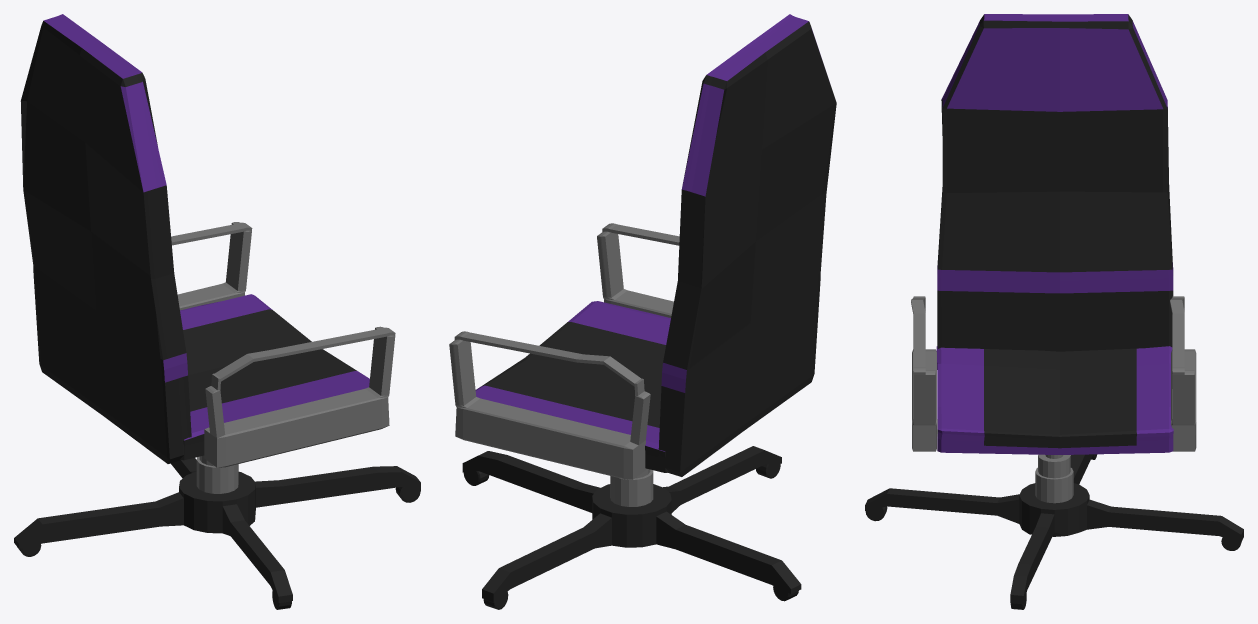
The model's file is OfficeChair.fbx.
3 renders of one model, left to right at view 1: azimuth 30°, elevation 25°; view 2: azimuth 150°, elevation 25°; view 3: azimuth 270°, elevation 25°, orthographic. The views are drawn at different scales.
Parts seen in each view (by area): view 1: GamingChair; view 2: GamingChair; view 3: GamingChair.
Part boxes in pixels (x1=…): GamingChair: x1=14, y1=14, x2=420, y2=609; GamingChair: x1=449, y1=14, x2=836, y2=609; GamingChair: x1=865, y1=14, x2=1243, y2=609.
Bounding box in the file's own units: 884 × 1191 × 884.
